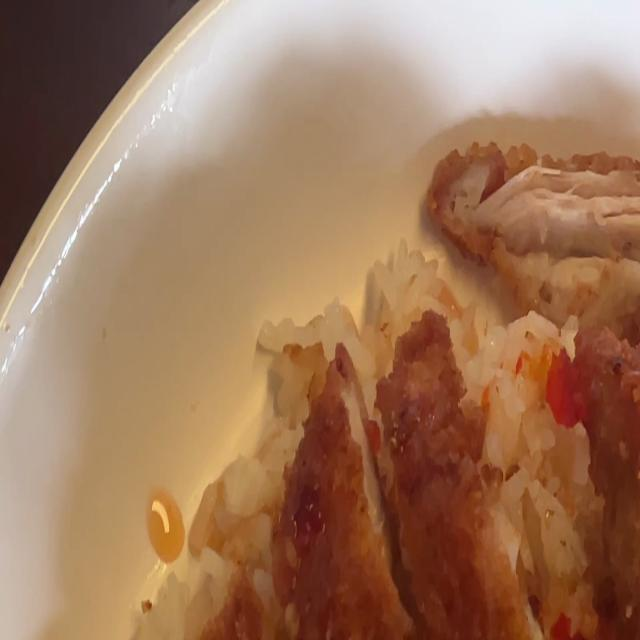chicken_rice: (158, 139, 640, 640)
fried_chicken: (283, 142, 640, 640)
